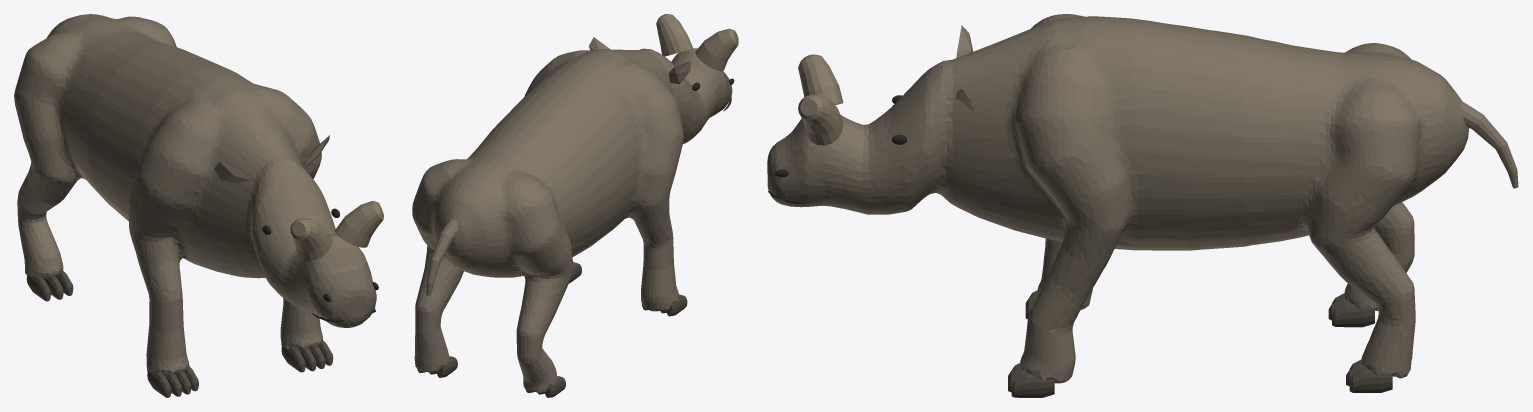
3 views of the same model, side by side, from view 1: azimuth 30°, elevation 25°; view 2: azimuth 150°, elevation 25°; view 3: azimuth 270°, elevation 25° (orthographic). The views are drawn at different scales.
Visible parts, largest first — view 1: continuous-hide, right-nasal-process, left-nasal-process, front-foot-1-4-toes, front-foot-3-4-toes, hind-foot-2-3-toes, left-ear; view 2: continuous-hide, left-nasal-process, right-nasal-process, drooping-tail, left-ear, front-foot-1-4-toes, hind-foot-4-3-toes, hind-foot-2-3-toes; view 3: continuous-hide, right-nasal-process, left-nasal-process, drooping-tail, front-foot-3-4-toes, hind-foot-2-3-toes, hind-foot-4-3-toes.
Part boxes in pixels (bbox=[...]): continuous-hide: bbox=[14, 14, 376, 373]; right-nasal-process: bbox=[335, 201, 383, 247]; left-nasal-process: bbox=[290, 218, 332, 260]; front-foot-1-4-toes: bbox=[147, 366, 198, 397]; front-foot-3-4-toes: bbox=[281, 340, 333, 372]; hind-foot-2-3-toes: bbox=[26, 271, 73, 301]; left-ear: bbox=[214, 162, 250, 182]; continuous-hide: bbox=[412, 48, 732, 392]; left-nasal-process: bbox=[695, 28, 738, 71]; right-nasal-process: bbox=[656, 14, 692, 56]; drooping-tail: bbox=[426, 219, 458, 295]; left-ear: bbox=[668, 61, 690, 84]; front-foot-1-4-toes: bbox=[642, 294, 687, 316]; hind-foot-4-3-toes: bbox=[417, 356, 457, 377]; hind-foot-2-3-toes: bbox=[525, 376, 565, 397]; continuous-hide: bbox=[767, 14, 1469, 383]; right-nasal-process: bbox=[798, 94, 843, 145]; left-nasal-process: bbox=[798, 54, 843, 104]; drooping-tail: bbox=[1461, 100, 1518, 188]; front-foot-3-4-toes: bbox=[1008, 362, 1054, 397]; hind-foot-2-3-toes: bbox=[1328, 293, 1374, 327]; hind-foot-4-3-toes: bbox=[1346, 359, 1392, 392].
Size of the model in its own units: 1.5 by 2.3 by 4.72.
